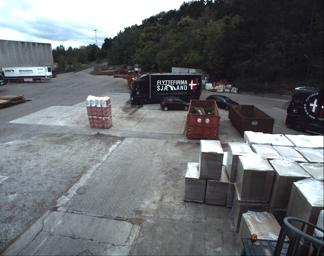rockwool_batts: (85, 94, 112, 126)
